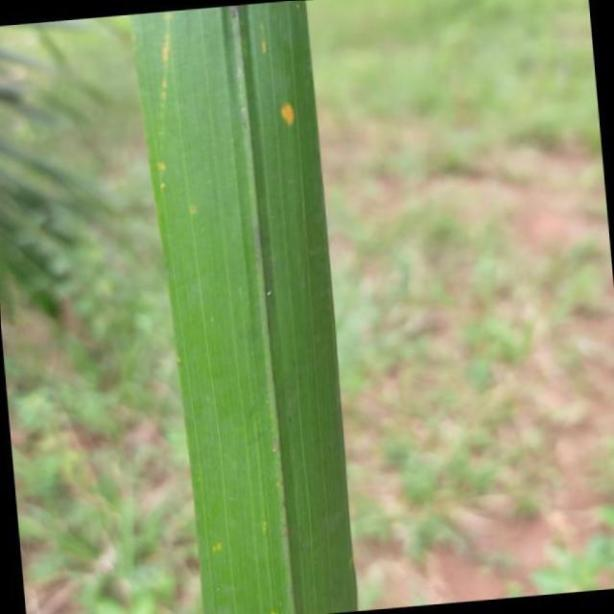Kalium: (117, 0, 361, 614)
